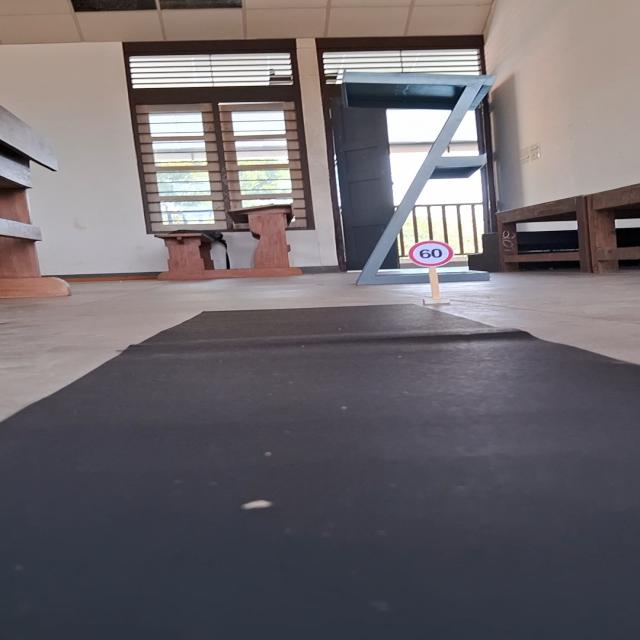Speed60: (408, 240, 454, 268)
